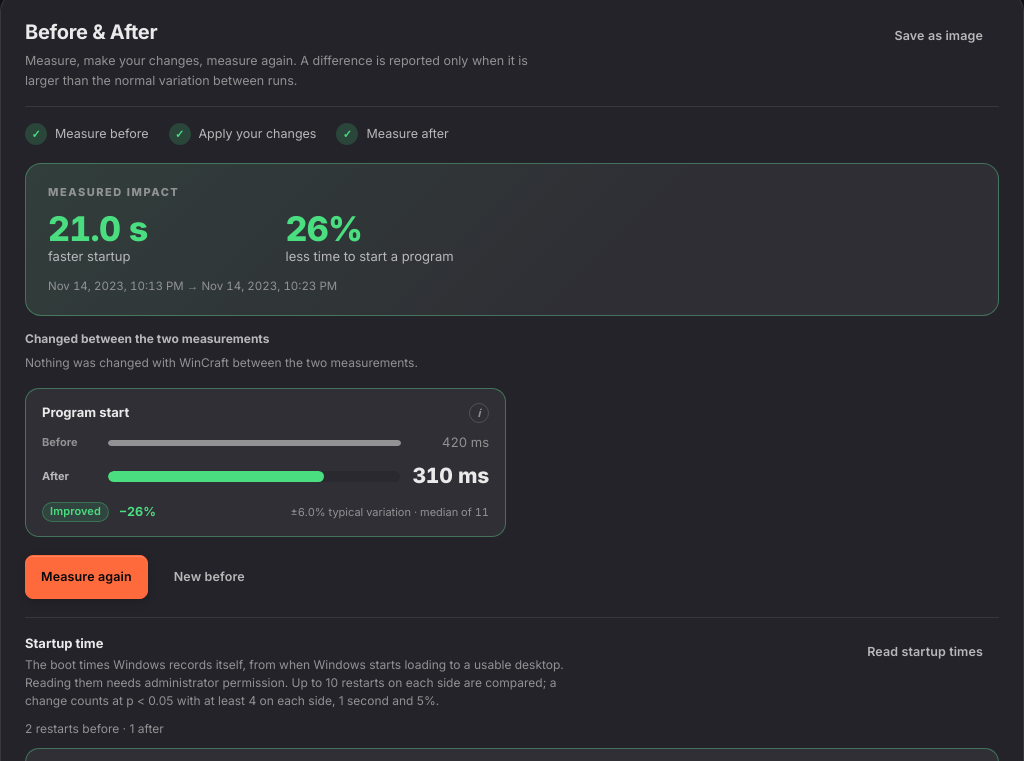
Scenario: BeforeAfterPanel › reads the startup log when asked, and shows what it found
Click the button "Read startup times". click: (925, 652)
box: [851, 634, 999, 671]
(page scrolled)
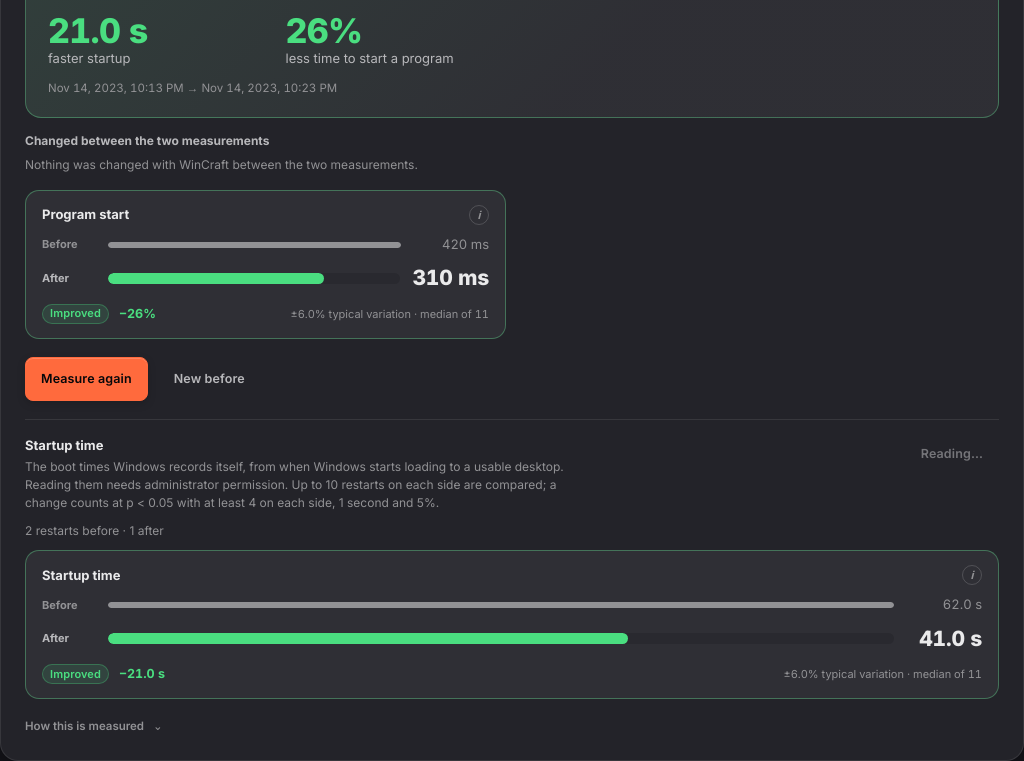
Expected: the list item "21.0 s faster startup" is shown, [48, 10, 148, 66]
Expected: the button "Reading…" is disabled, [905, 436, 999, 473]
